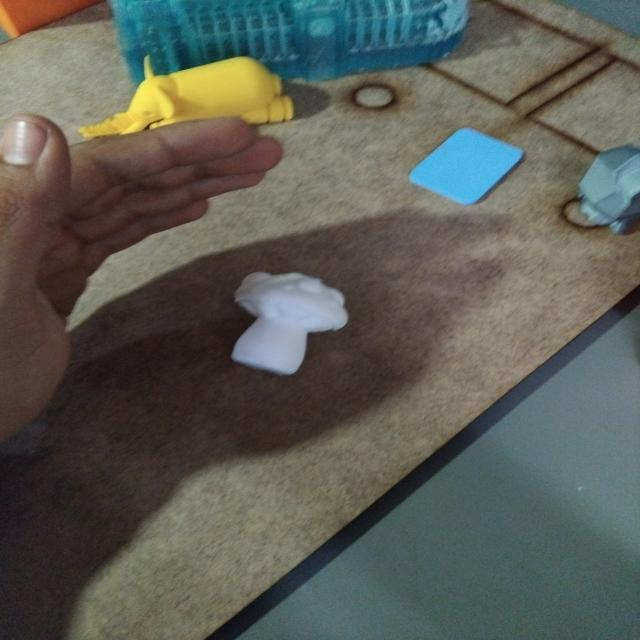Hongo: (218, 263, 356, 382)
